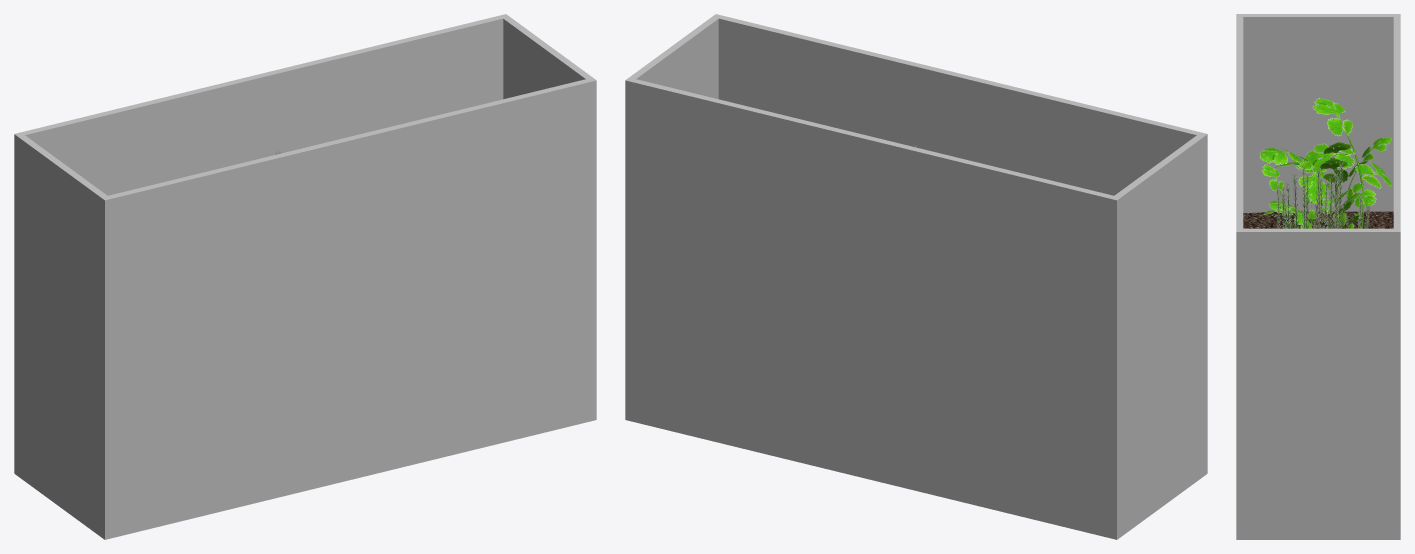
Rendered from sp-herb.glb.
3 views of the same model, side by side, from view 1: azimuth 30°, elevation 25°; view 2: azimuth 150°, elevation 25°; view 3: azimuth 270°, elevation 25° (orthographic). The views are drawn at different scales.
Parts seen in each view (by area): view 1: Object_2; view 2: Object_2; view 3: Object_2, Object_8, Object_3, Object_13, Object_14, Object_10, Object_12, Object_11, Object_9.
Part boxes in pixels (box(x1,y1,x2,y2)): Object_2: box(14, 14, 596, 539); Object_2: box(625, 14, 1207, 539); Object_2: box(1236, 14, 1400, 539); Object_8: box(1259, 98, 1391, 228); Object_3: box(1243, 211, 1393, 228); Object_13: box(1275, 165, 1339, 228); Object_14: box(1317, 162, 1343, 228); Object_10: box(1277, 166, 1369, 228); Object_12: box(1281, 177, 1369, 228); Object_11: box(1281, 183, 1370, 228); Object_9: box(1279, 173, 1357, 228).
Bounding box in the file's own units: 1.15 × 0.7611 × 0.3685.
7 materials, 5 textured.
